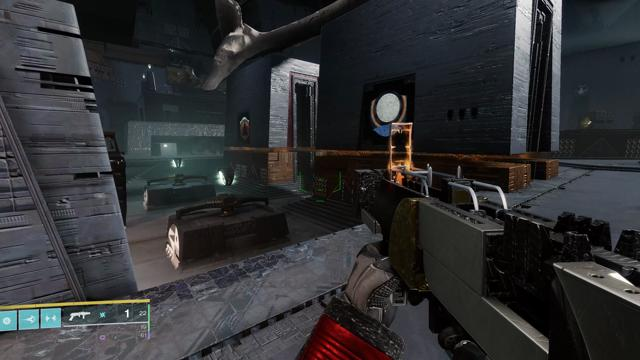pyramid: (239, 116, 250, 141)
traveler: (370, 91, 407, 137)
